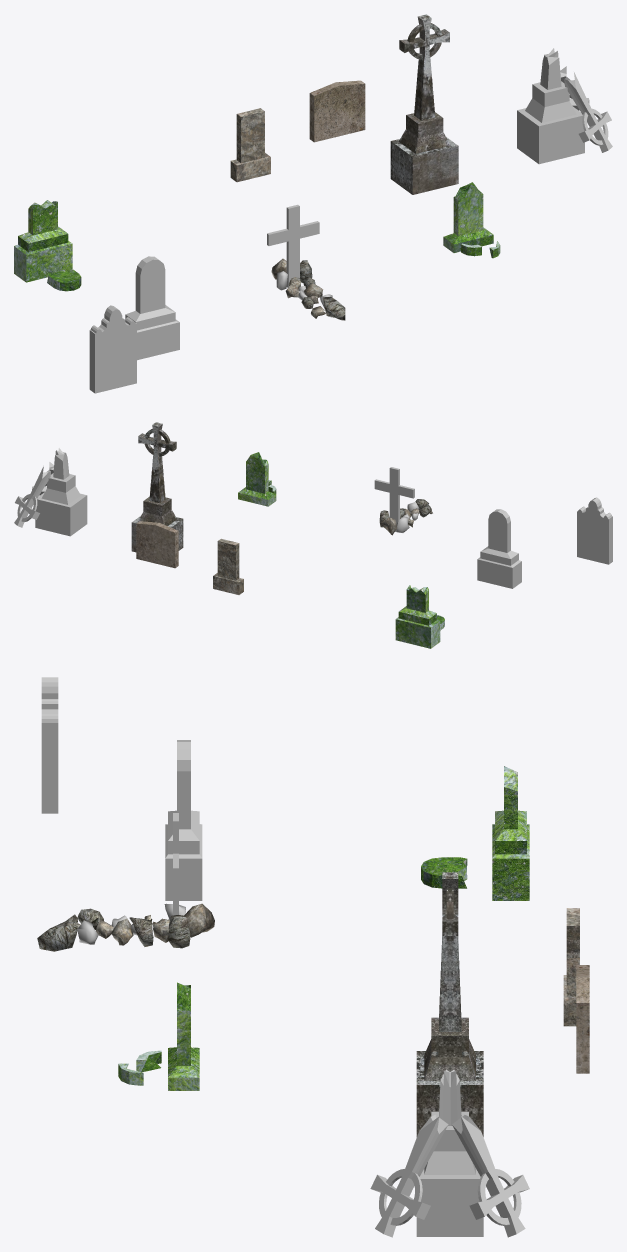
The model's file is Cemiterio.fbx.
3 renders of one model, top to bottom at view 1: azimuth 30°, elevation 25°; view 2: azimuth 150°, elevation 25°; view 3: azimuth 270°, elevation 25°, orthographic. The views are drawn at different scales.
Visible parts, largest first — view 1: Circle, Circle.001, Cube.002, Cube, Cube.006, Cube.007, Cube.004, Cube.001, Cube.003; view 2: Circle.001, Circle, Cube, Cube.002, Cube.007, Cube.006, Cube.004, Cube.001, Cube.003; view 3: Circle.001, Circle, Cube.006, Cube.002, Cube, Cube.001, Cube.007, Cube.003, Cube.004.
Part boxes in pixels (x1,y1,x2,y2): Circle: [390, 14, 458, 194]; Circle.001: [517, 48, 612, 164]; Cube.002: [14, 200, 81, 291]; Cube: [125, 256, 179, 360]; Cube.006: [267, 204, 345, 320]; Cube.007: [89, 305, 136, 393]; Cube.004: [309, 80, 365, 142]; Cube.001: [443, 182, 500, 258]; Cube.003: [230, 108, 270, 182]; Circle.001: [14, 448, 87, 536]; Circle: [131, 422, 183, 552]; Cube: [477, 509, 521, 588]; Cube.002: [395, 585, 444, 648]; Cube.007: [577, 497, 612, 564]; Cube.006: [374, 467, 432, 535]; Cube.004: [136, 521, 178, 568]; Cube.001: [238, 452, 276, 506]; Cube.003: [213, 538, 243, 594]; Circle.001: [370, 1069, 529, 1237]; Circle: [416, 872, 483, 1136]; Cube.006: [37, 813, 214, 951]; Cube.002: [421, 766, 529, 900]; Cube: [165, 740, 202, 900]; Cube.001: [118, 982, 199, 1090]; Cube.007: [41, 677, 58, 813]; Cube.003: [563, 908, 579, 1026]; Cube.004: [576, 965, 589, 1073].
Bounding box in the file's own units: 5112 × 1386 × 2508.
